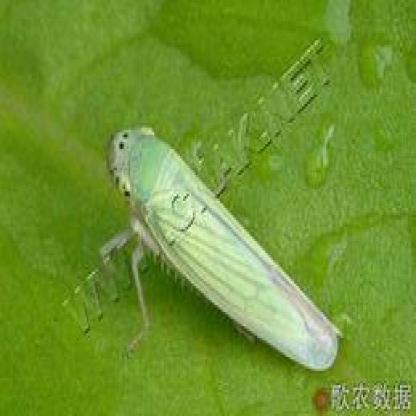Green-Leafhopper: (107, 128, 345, 372)
